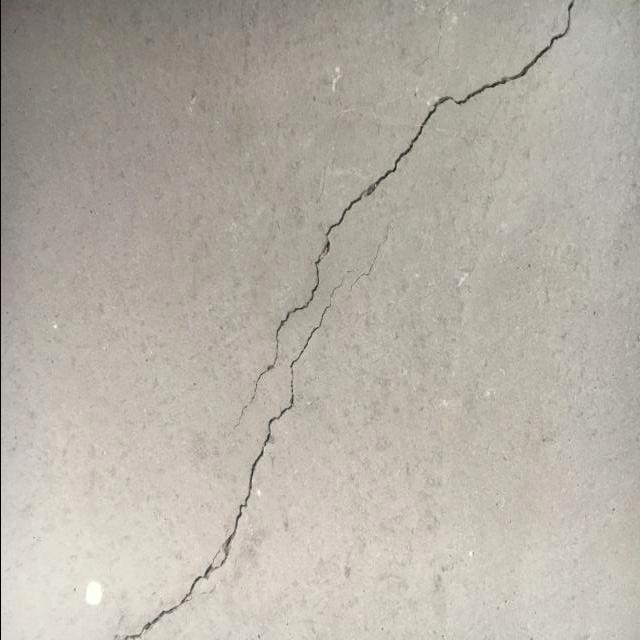SurfaceCrack: (9, 1, 638, 640)
